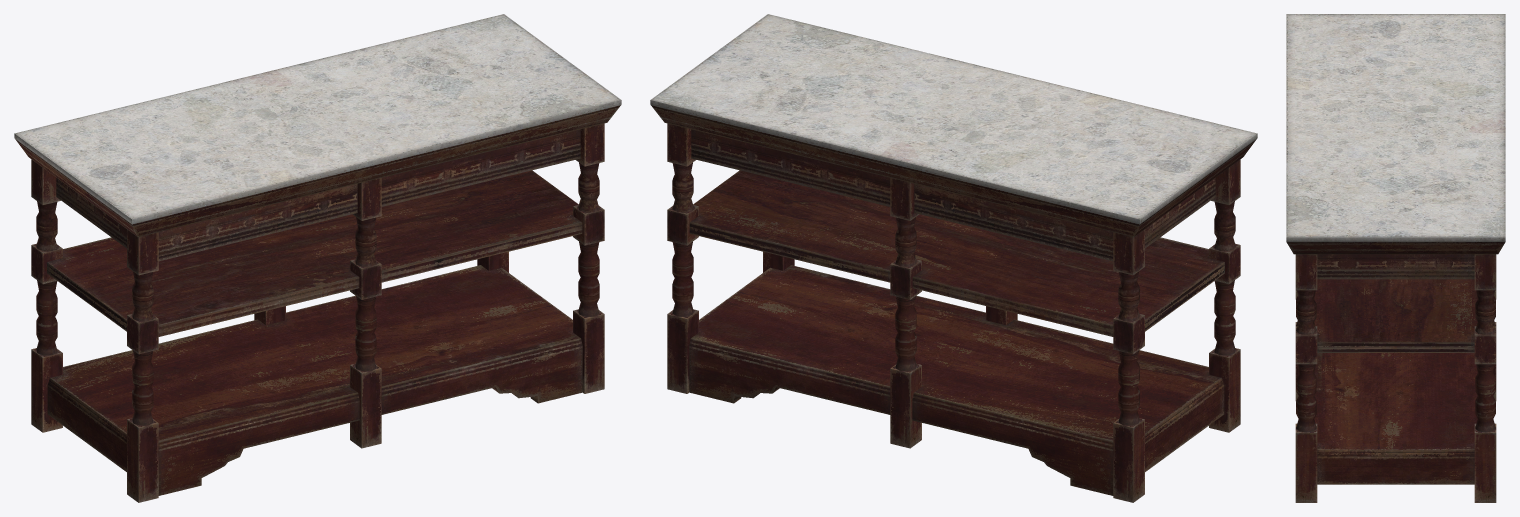
File: 148_Table.fbx
The picture shows the model from 3 angles, left to right: view 1: azimuth 30°, elevation 25°; view 2: azimuth 150°, elevation 25°; view 3: azimuth 270°, elevation 25°; orthographic projection. The views are drawn at different scales.
Parts seen in each view (by area): view 1: LOD_1_Group_0_Sub_1__sm30_148_Table05A_A_Mat; view 2: LOD_1_Group_0_Sub_1__sm30_148_Table05A_A_Mat; view 3: LOD_1_Group_0_Sub_1__sm30_148_Table05A_A_Mat.
Part boxes in pixels (x1,y1,x2,y2): LOD_1_Group_0_Sub_1__sm30_148_Table05A_A_Mat: [14, 14, 621, 502]; LOD_1_Group_0_Sub_1__sm30_148_Table05A_A_Mat: [650, 14, 1257, 502]; LOD_1_Group_0_Sub_1__sm30_148_Table05A_A_Mat: [1286, 14, 1505, 502].
Size of the model in its own units: 1.59 by 0.9004 by 0.6611.
